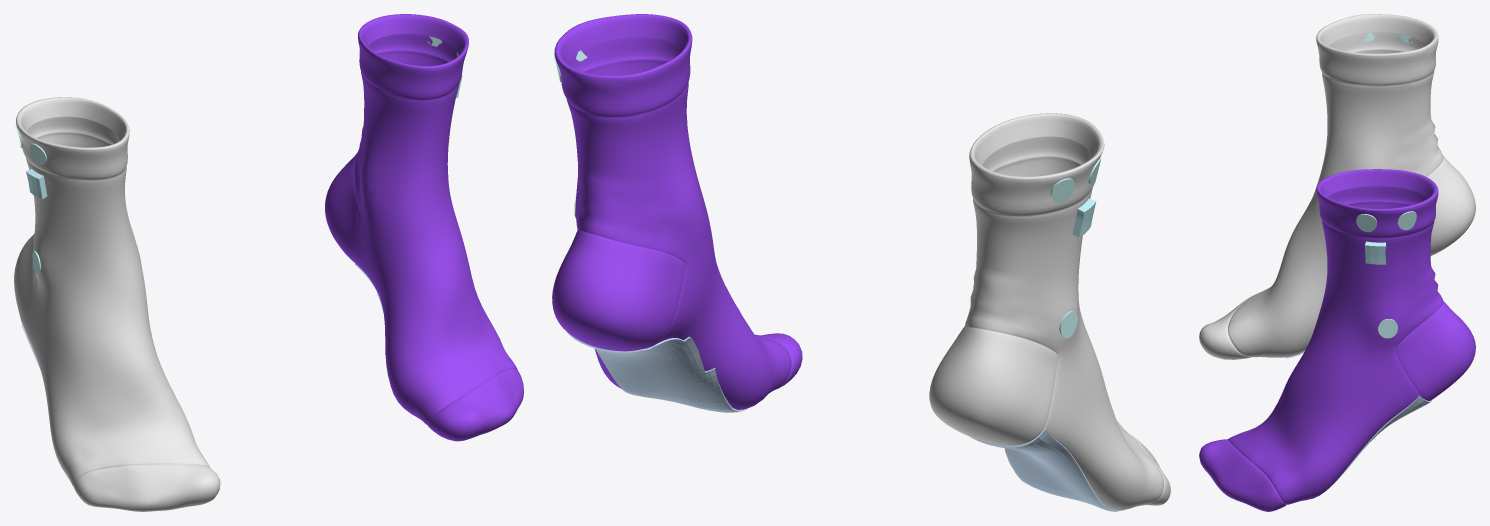
The model's file is socks.glb.
3 renders of one model, left to right at view 1: azimuth 30°, elevation 25°; view 2: azimuth 150°, elevation 25°; view 3: azimuth 270°, elevation 25°, orthographic. The views are drawn at different scales.
Visible parts, largest first — view 1: sock-left-c.003, sock-left-c; view 2: sock-left-c, sock-left-c.003, Pression, Pression.001; view 3: sock-left-c, sock-left-c.003, Pression, PCB + IMU, Circle.
Boxes of the visible parts, x1,y1,x2,y2 form: sock-left-c.003: [14, 97, 220, 511]; sock-left-c: [325, 14, 523, 441]; sock-left-c: [552, 14, 802, 409]; sock-left-c.003: [929, 113, 1170, 510]; Pression: [566, 331, 747, 412]; Pression.001: [971, 428, 1120, 511]; sock-left-c: [1199, 169, 1475, 511]; sock-left-c.003: [1199, 14, 1475, 359]; Pression: [1333, 396, 1432, 484]; PCB + IMU: [1364, 241, 1386, 264]; Circle: [1378, 319, 1397, 338].
Size of the model in its own units: 0.4166 by 0.2953 by 0.2431.
